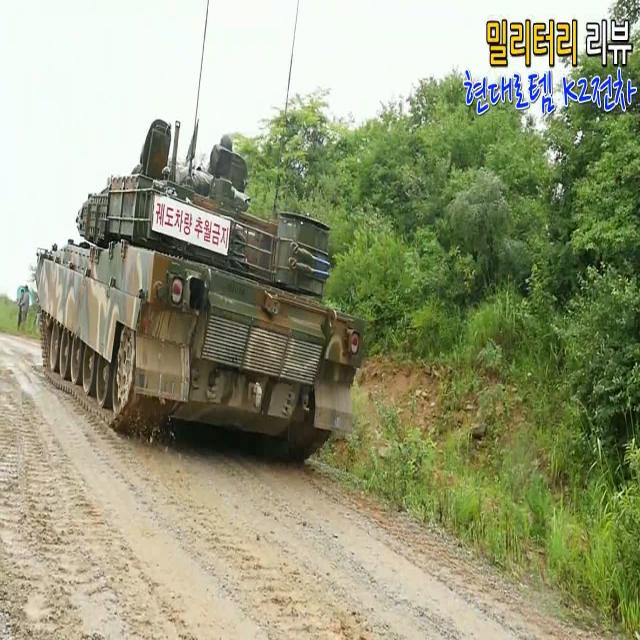korea tank: (26, 111, 368, 467)
